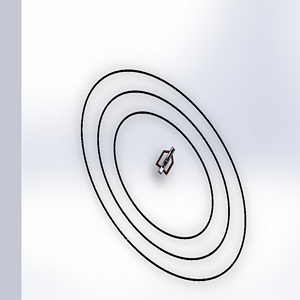circle: (73, 59, 264, 290)
submarine: (148, 138, 185, 190)
